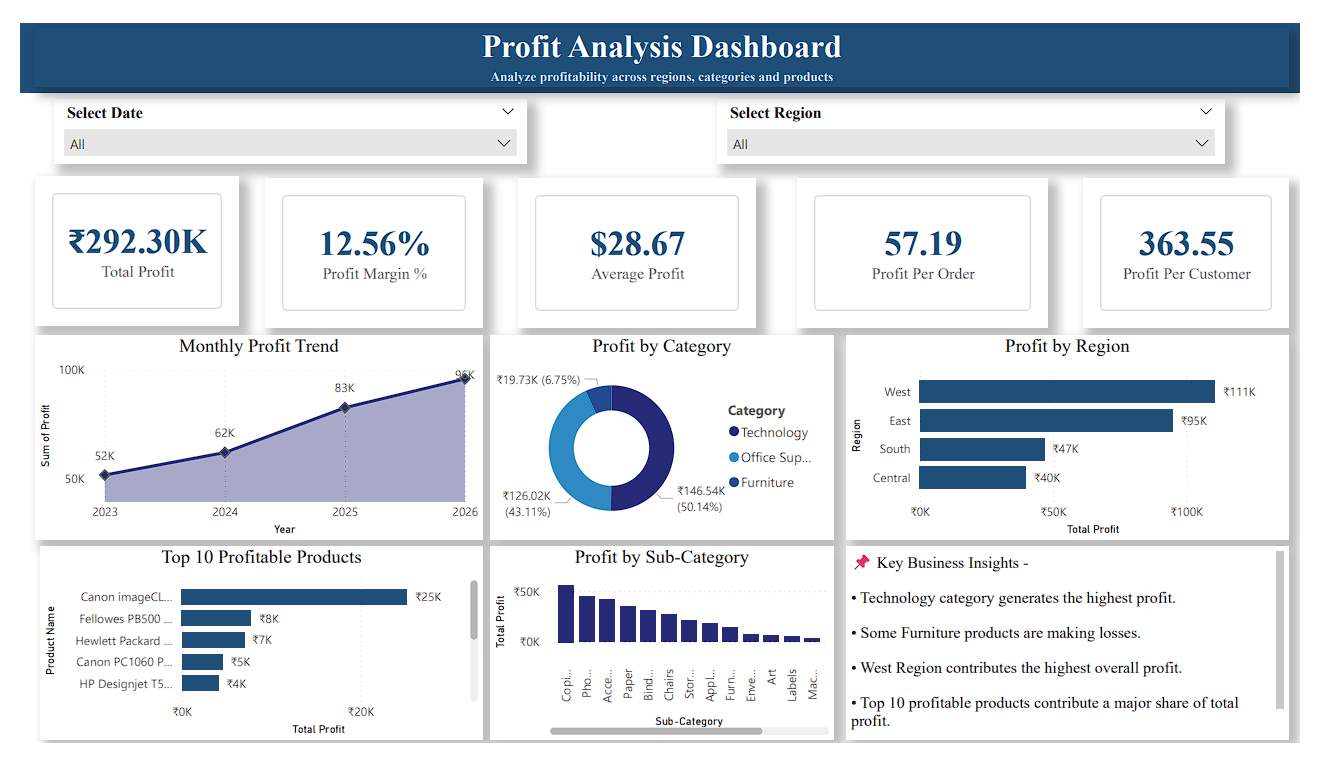

The page's visual inventory and layout, read from the dashboard file:
{"tool":"powerbi","page":{"name":"💰 Profit Analysis","canvas":[1280,720],"ordinal":2},"visuals":[{"type":"slicer","fields":{"Values":["Dim_Date.Date"]},"box":[33.7,75.6,473.3,65.1],"z":0},{"type":"slicer","title":"vb","fields":{"Values":["Fact_Sales.Region"]},"box":[696.5,75.6,508.1,65.1],"z":1000},{"type":"shape","box":[0,0,1280,70],"z":2000},{"type":"textbox","title":"Profit Analysis Dashboard","box":[15,5,1253.8,58.8],"z":3000},{"type":"cardVisual","fields":{"Data":["Fact_Sales.Total Profit"]},"box":[15.1,153.5,203.5,150],"z":4000},{"type":"cardVisual","fields":{"Data":["Fact_Sales.Profit Margin %"]},"box":[245.3,154.7,217.4,150],"z":5000},{"type":"cardVisual","fields":{"Data":["Fact_Sales.Average Profit"]},"box":[497.7,154.7,238.4,150],"z":6000},{"type":"cardVisual","fields":{"Data":["Fact_Sales.Profit Per Order"]},"box":[776.7,154.7,251.2,150],"z":7000},{"type":"cardVisual","fields":{"Data":["Fact_Sales.Profit Per Customer"]},"box":[1062.8,154.7,205.8,150],"z":8000},{"type":"lineChart","title":"Monthly Profit Trend","fields":{"Category":["Dim_Date.Year"],"Y":["Sum(Fact_Sales.Profit)"]},"box":[15.1,311.6,447.7,205.8],"z":9000},{"type":"donutChart","title":"Profit by Category","fields":{"Category":["Fact_Sales.Category"],"Y":["Fact_Sales.Total Profit"]},"box":[469.8,311.6,344.2,205.8],"z":10000},{"type":"clusteredBarChart","title":"Profit by Region","fields":{"Category":["Fact_Sales.Region"],"Y":["Fact_Sales.Total Profit"]},"box":[825.6,311.6,443,205.8],"z":11000},{"type":"clusteredBarChart","title":"Top 10 Profitable Products","fields":{"Category":["Fact_Sales.Product Name"],"Y":["Fact_Sales.Total Profit"]},"box":[19.8,523.3,443,194.2],"z":12000},{"type":"clusteredColumnChart","title":"Profit by Sub-Category","fields":{"Category":["Fact_Sales.Sub-Category"],"Y":["Fact_Sales.Total Profit"]},"box":[470,523,344,194],"z":13000},{"type":"textbox","box":[825.6,523.3,443,194.2],"z":14000}]}

Visuals, with their boxes on the page's 1280x720 design canvas (x1, y1, x2, y2). These are canvas units, not pixel positions in the 1320x766 screenshot, which may show the page scaled, cropped or inside an application window:
slicer - Dim_Date.Date: [left=34, top=76, right=507, bottom=141]
"vb" slicer: [left=696, top=76, right=1205, bottom=141]
shape: [left=0, top=0, right=1280, bottom=70]
"Profit Analysis Dashboard" textbox: [left=15, top=5, right=1269, bottom=64]
cardVisual - Fact_Sales.Total Profit: [left=15, top=154, right=219, bottom=304]
cardVisual - Fact_Sales.Profit Margin %: [left=245, top=155, right=463, bottom=305]
cardVisual - Fact_Sales.Average Profit: [left=498, top=155, right=736, bottom=305]
cardVisual - Fact_Sales.Profit Per Order: [left=777, top=155, right=1028, bottom=305]
cardVisual - Fact_Sales.Profit Per Customer: [left=1063, top=155, right=1269, bottom=305]
"Monthly Profit Trend" lineChart: [left=15, top=312, right=463, bottom=517]
"Profit by Category" donutChart: [left=470, top=312, right=814, bottom=517]
"Profit by Region" clusteredBarChart: [left=826, top=312, right=1269, bottom=517]
"Top 10 Profitable Products" clusteredBarChart: [left=20, top=523, right=463, bottom=718]
"Profit by Sub-Category" clusteredColumnChart: [left=470, top=523, right=814, bottom=717]
textbox: [left=826, top=523, right=1269, bottom=718]
